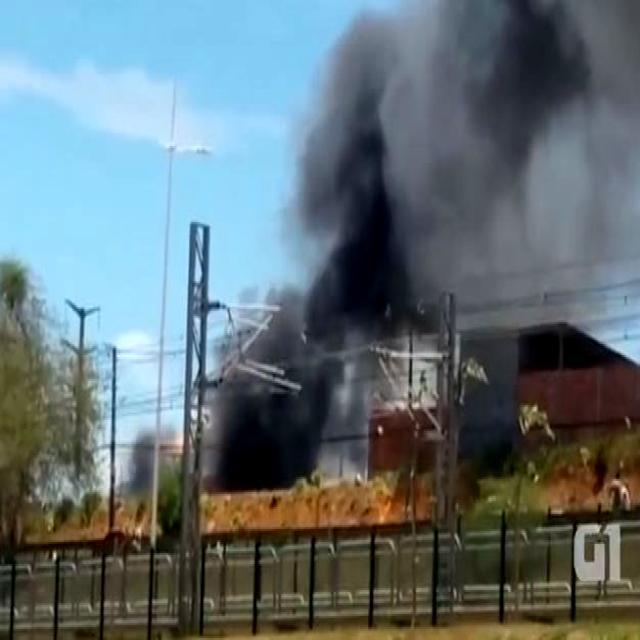Smoke: (213, 0, 640, 504)
